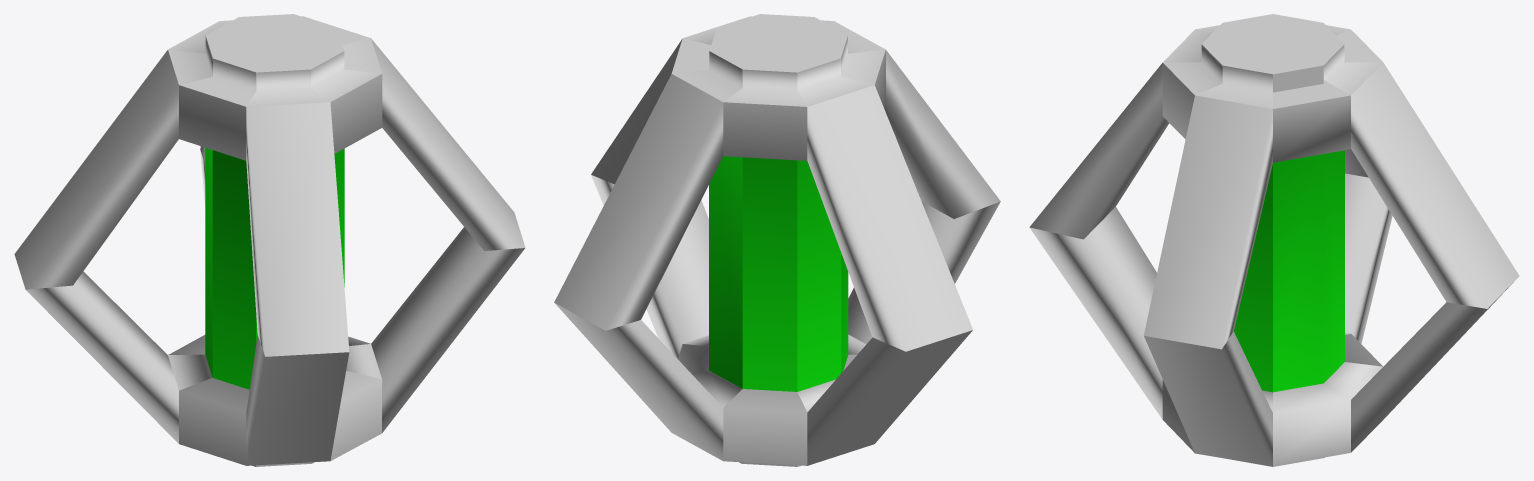
Rendered from speedItem.fbx.
3 views of the same model, side by side, from view 1: azimuth 30°, elevation 25°; view 2: azimuth 150°, elevation 25°; view 3: azimuth 270°, elevation 25° (orthographic).
Visible parts, largest first — view 1: polySurface1; view 2: polySurface1; view 3: polySurface1.
Boxes of the visible parts, x1,y1,x2,y2 form: polySurface1: [14, 14, 525, 466]; polySurface1: [554, 14, 1000, 466]; polySurface1: [1029, 14, 1519, 466].
Size of the model in its own units: 13.52 by 11.67 by 13.24.
